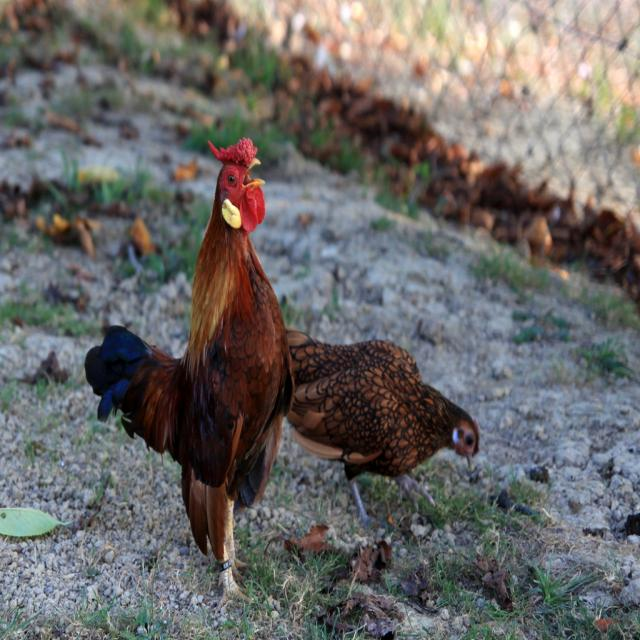Chicken: (84, 137, 295, 620), (285, 330, 480, 524)
